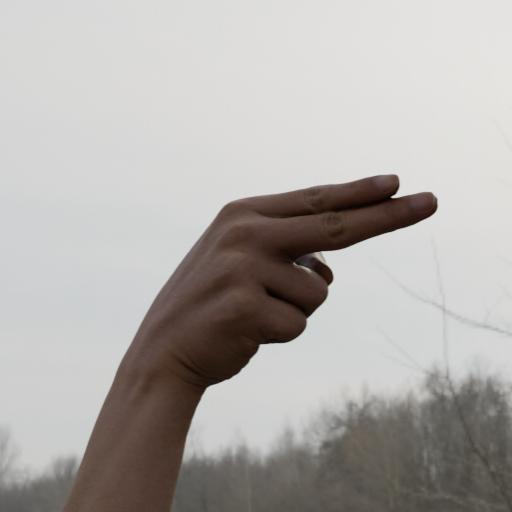H: (110, 162, 450, 382)
